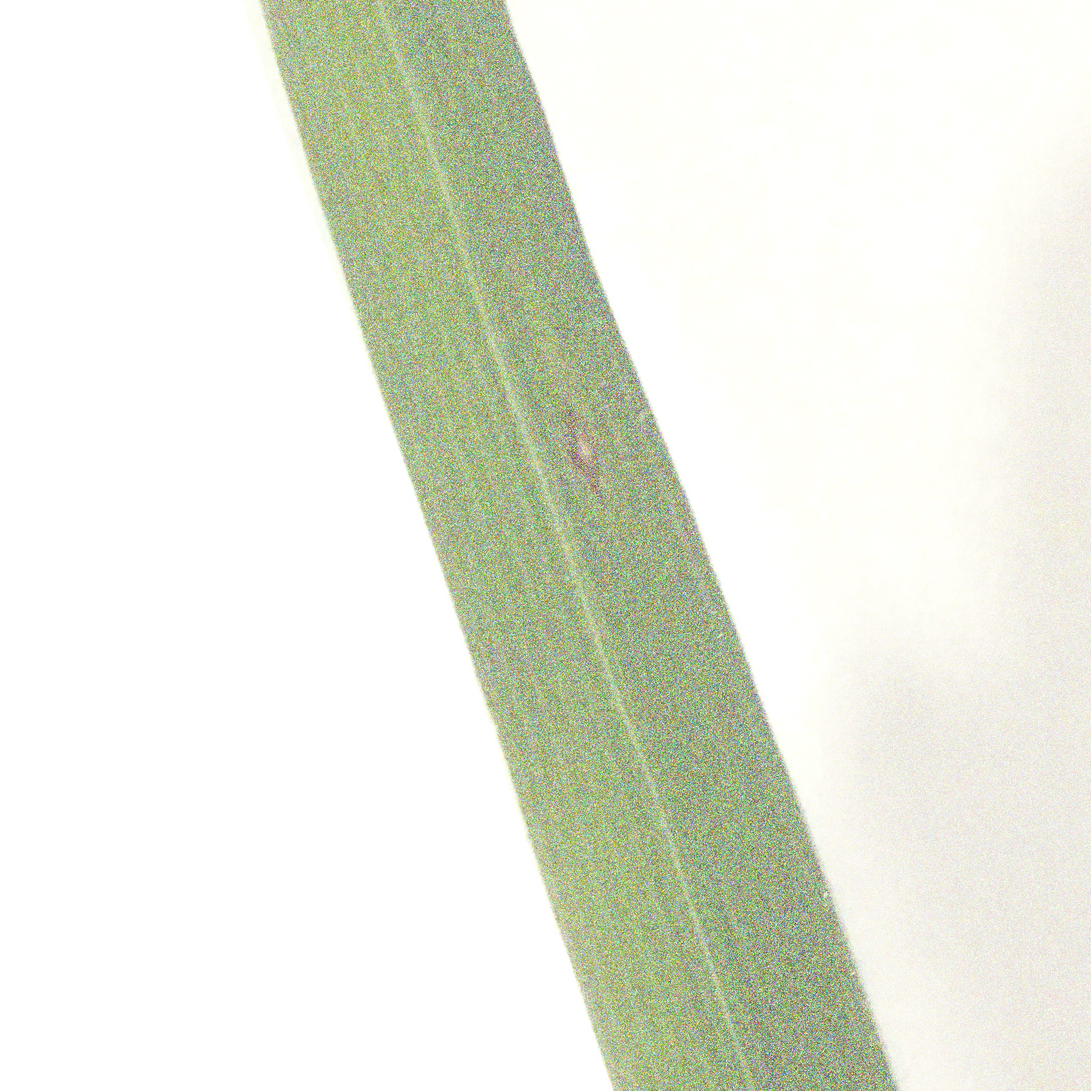Brown_Spot: (550, 334, 618, 529)
